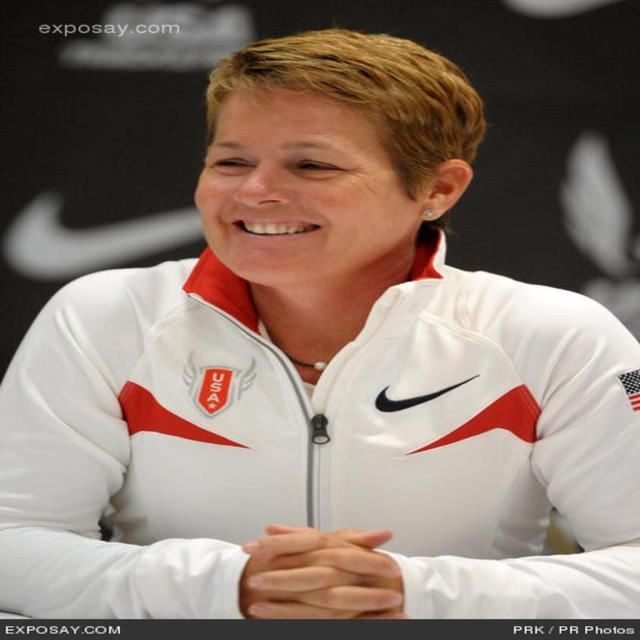Face: (179, 65, 429, 294)
